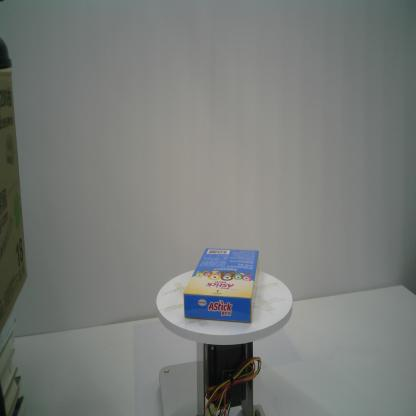Dessert: (183, 246, 260, 326)
